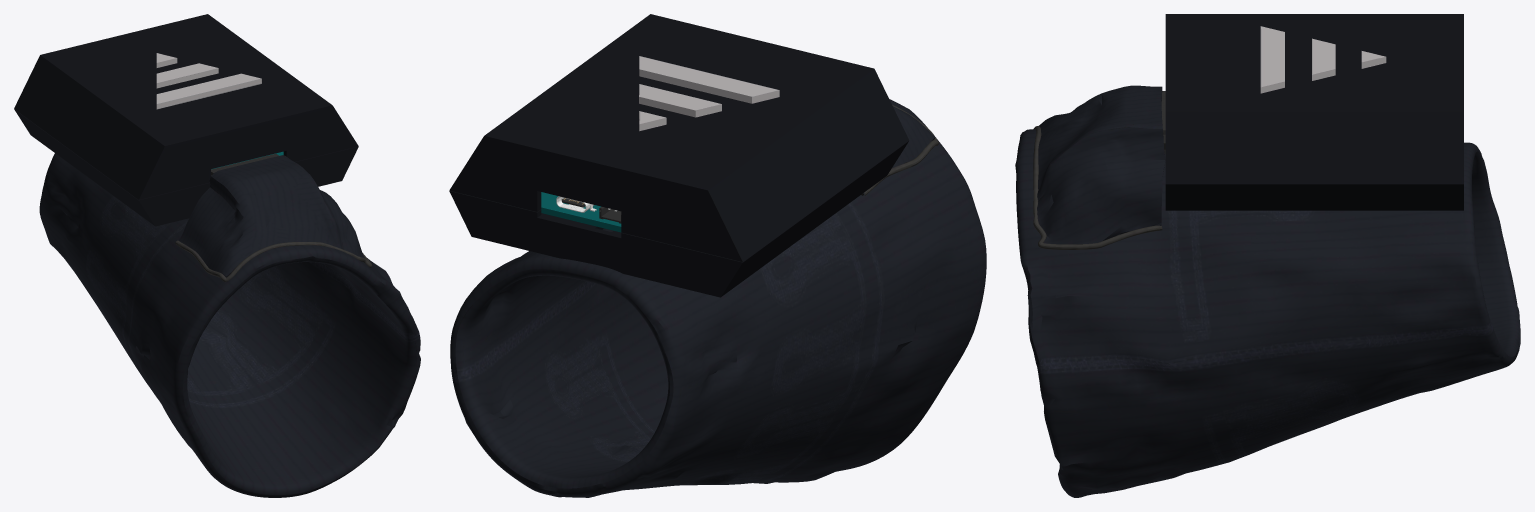
File: scene_without_arm.gltf
3 renders of one model, left to right at view 1: azimuth 30°, elevation 25°; view 2: azimuth 150°, elevation 25°; view 3: azimuth 270°, elevation 25°, orthographic. The views are drawn at different scales.
Parts seen in each view (by area): view 1: Tisue, top_plate, bottom_plate; view 2: Tisue, top_plate, bottom_plate, Assembly_PCB_EIT_Eval_Kit_1.0_with_Teensy, Assembly_medium_parts; view 3: Tisue, top_plate, bottom_plate.
Part boxes in pixels (left/top/right/bottom): Tisue: left=39, top=153, right=420, bottom=497; top_plate: left=14, top=14, right=358, bottom=199; bottom_plate: left=14, top=109, right=358, bottom=226; Tisue: left=450, top=99, right=986, bottom=497; top_plate: left=449, top=14, right=908, bottom=261; bottom_plate: left=449, top=141, right=908, bottom=297; Assembly_PCB_EIT_Eval_Kit_1.0_with_Teensy: left=541, top=192, right=621, bottom=232; Assembly_medium_parts: left=556, top=196, right=621, bottom=223; Tisue: left=1015, top=85, right=1520, bottom=497; top_plate: left=1165, top=14, right=1463, bottom=183; bottom_plate: left=1165, top=183, right=1463, bottom=210.
Bounding box in the file's own units: 0.0972 × 0.1342 × 0.1457.
9 materials, 8 textured.
